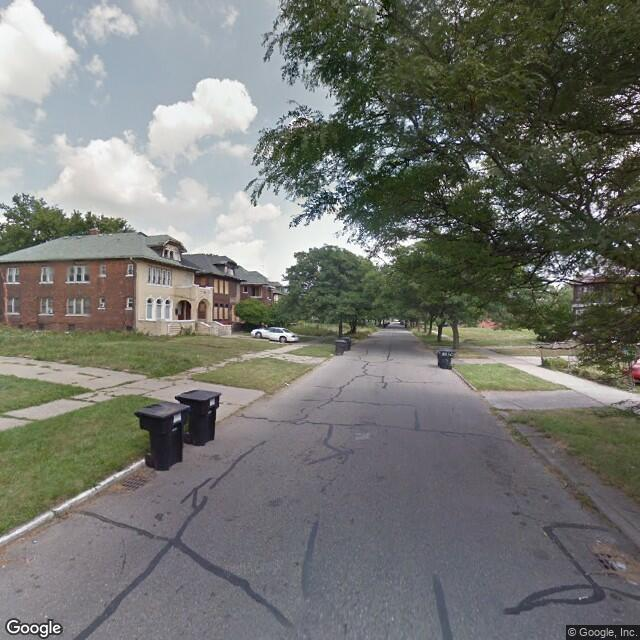litter: (614, 558, 632, 570), (280, 379, 290, 388)
